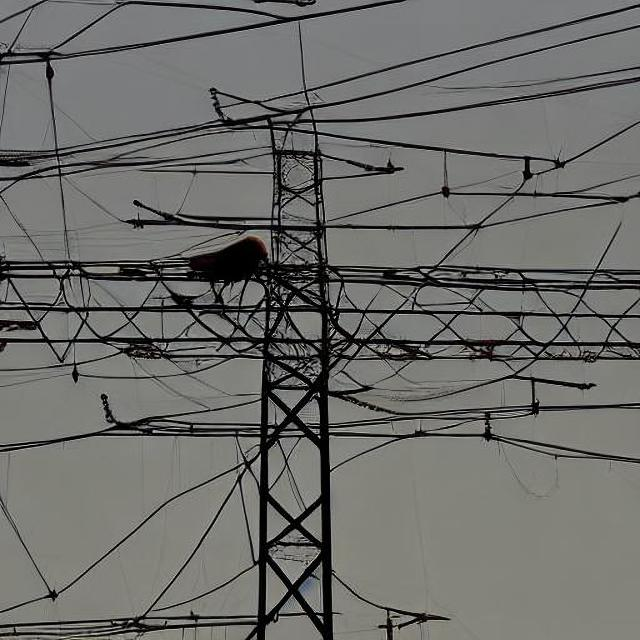floating object: (127, 204, 276, 278), (173, 228, 269, 282)
